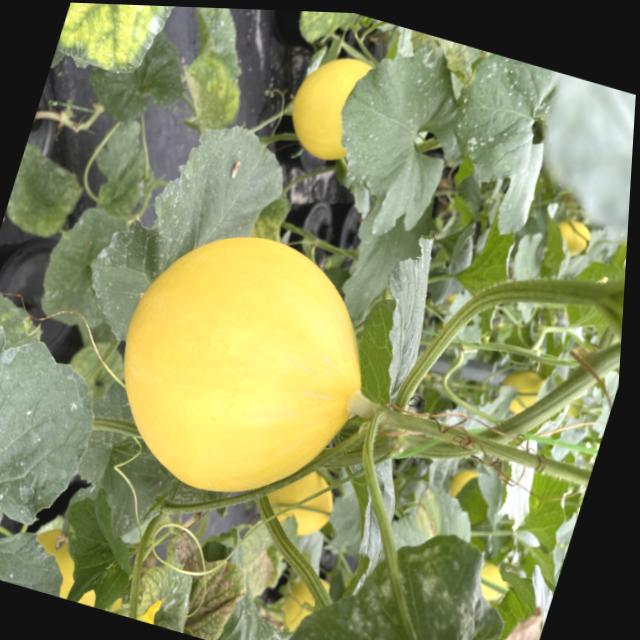alternaria leaf blight: (129, 520, 261, 640), (503, 614, 541, 640)
downy mildew: (47, 2, 220, 109), (41, 481, 154, 615)
powdery mildew: (66, 93, 304, 378), (0, 298, 145, 601), (308, 30, 478, 250), (419, 45, 579, 245), (288, 534, 503, 640)
